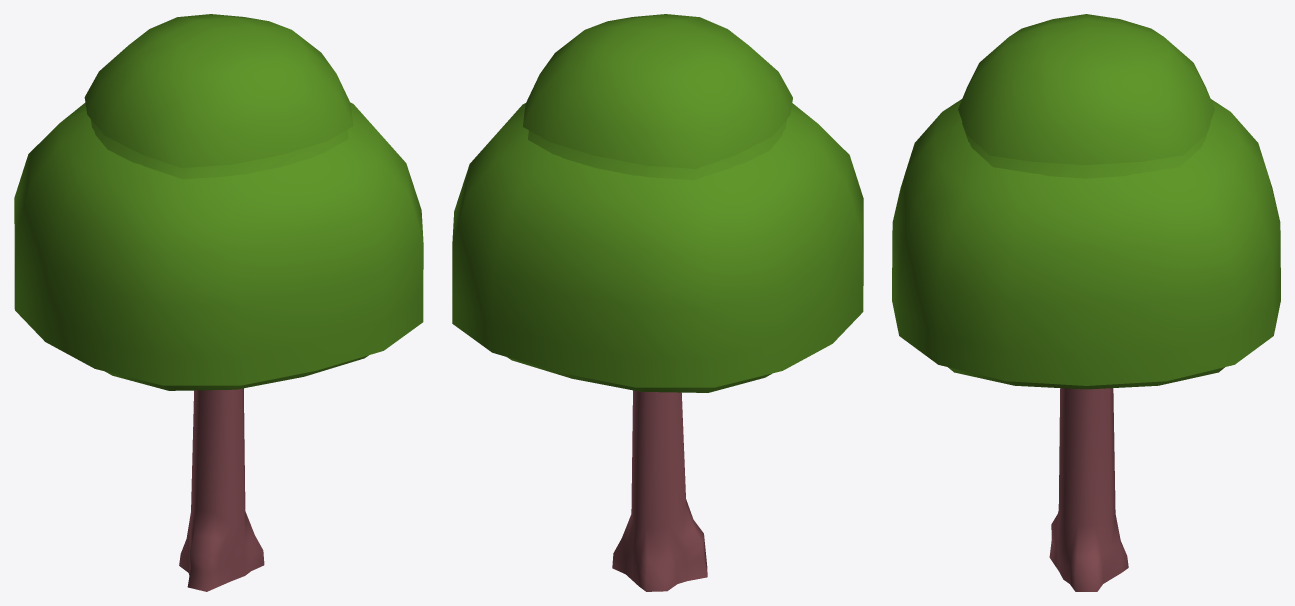
The model's file is Tree_WIP (2).fbx.
The picture shows the model from 3 angles, left to right: view 1: azimuth 30°, elevation 25°; view 2: azimuth 150°, elevation 25°; view 3: azimuth 270°, elevation 25°; orthographic projection.
Visible parts, largest first — view 1: Tree1; view 2: Tree1; view 3: Tree1.
Boxes of the visible parts, x1,y1,x2,y2 form: Tree1: (14, 14, 423, 591); Tree1: (452, 14, 863, 591); Tree1: (892, 14, 1280, 591).
Size of the model in its own units: 173 by 257 by 168.
